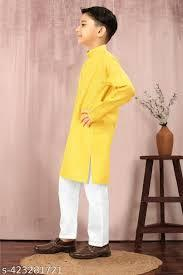Human: (51, 2, 119, 263)
